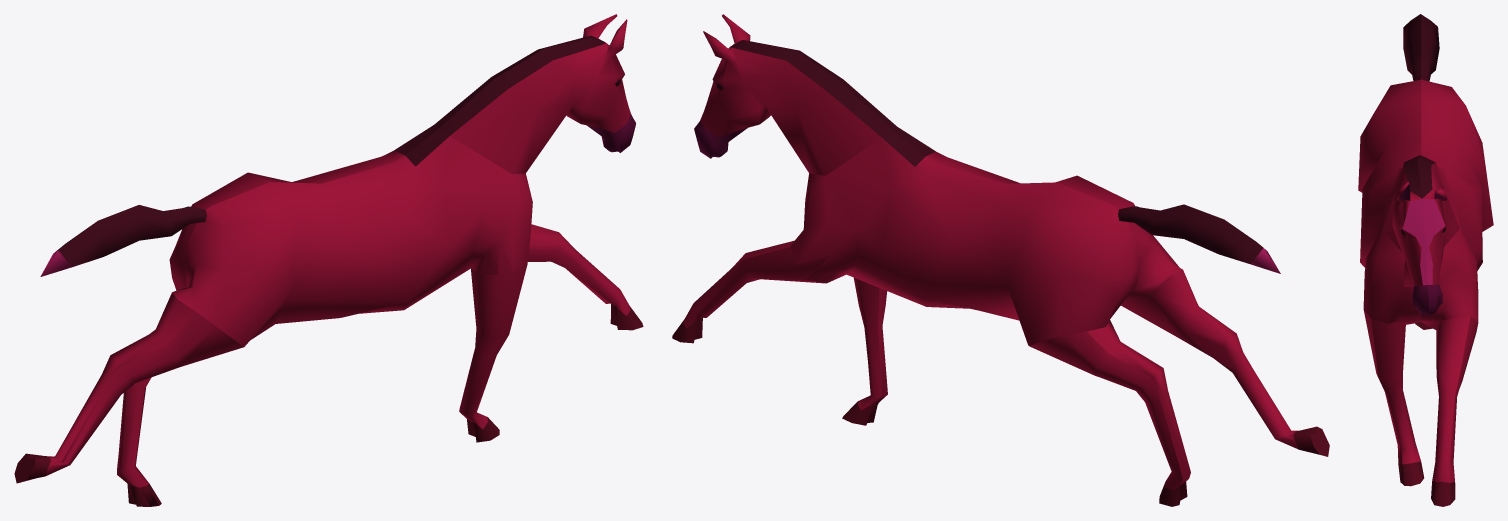
File: horse_pink.glb
The picture shows the model from 3 angles, left to right: view 1: azimuth 30°, elevation 25°; view 2: azimuth 150°, elevation 25°; view 3: azimuth 270°, elevation 25°; orthographic projection. The views are drawn at different scales.
Parts seen in each view (by area): view 1: Node_0; view 2: Node_0; view 3: Node_0.
Boxes of the visible parts, <box> form: Node_0: <box>14,14,643,506</box>; Node_0: <box>672,14,1329,506</box>; Node_0: <box>1358,14,1493,506</box>.
Size of the model in its own units: 26 by 14.7 by 4.93.
